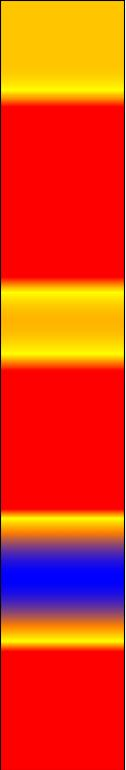Thermal Runaway: (7, 11, 112, 531), (9, 619, 116, 759)
safe: (5, 543, 119, 609)
